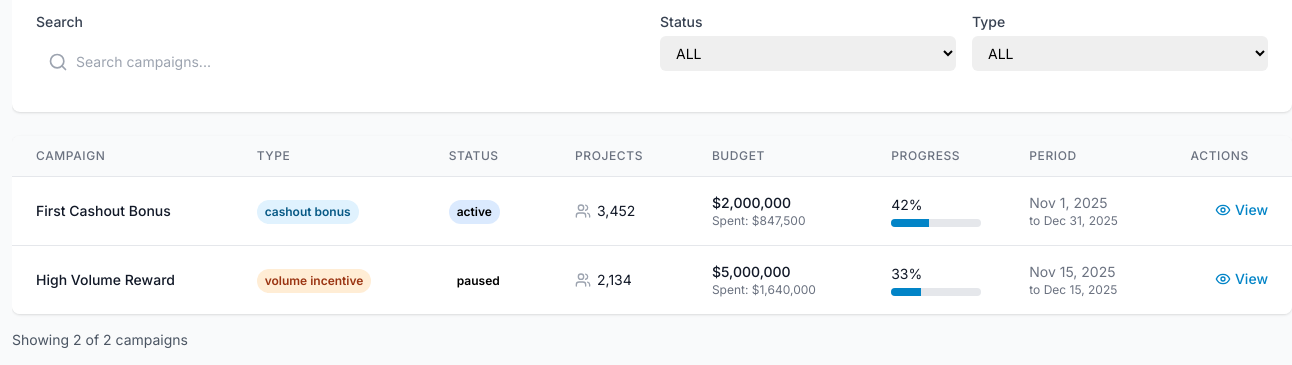
Test: CampaignsClient Component › Rendering › Search Functionality › should filter campaigns by search term
The width and height of the screenshot is (1292, 365).
Type "Cashout" into the field with placeholder "Search campaigns..." at (340, 62), box [36,36,644,88]
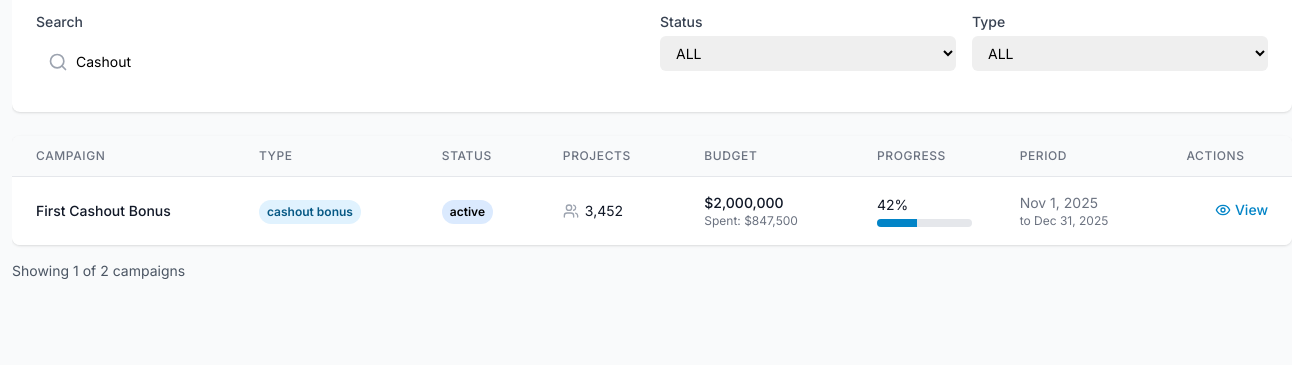
Expected: the text "First Cashout Bonus" is shown, [36,202,171,219]
Expected: the text "High Volume Reward" is gone
